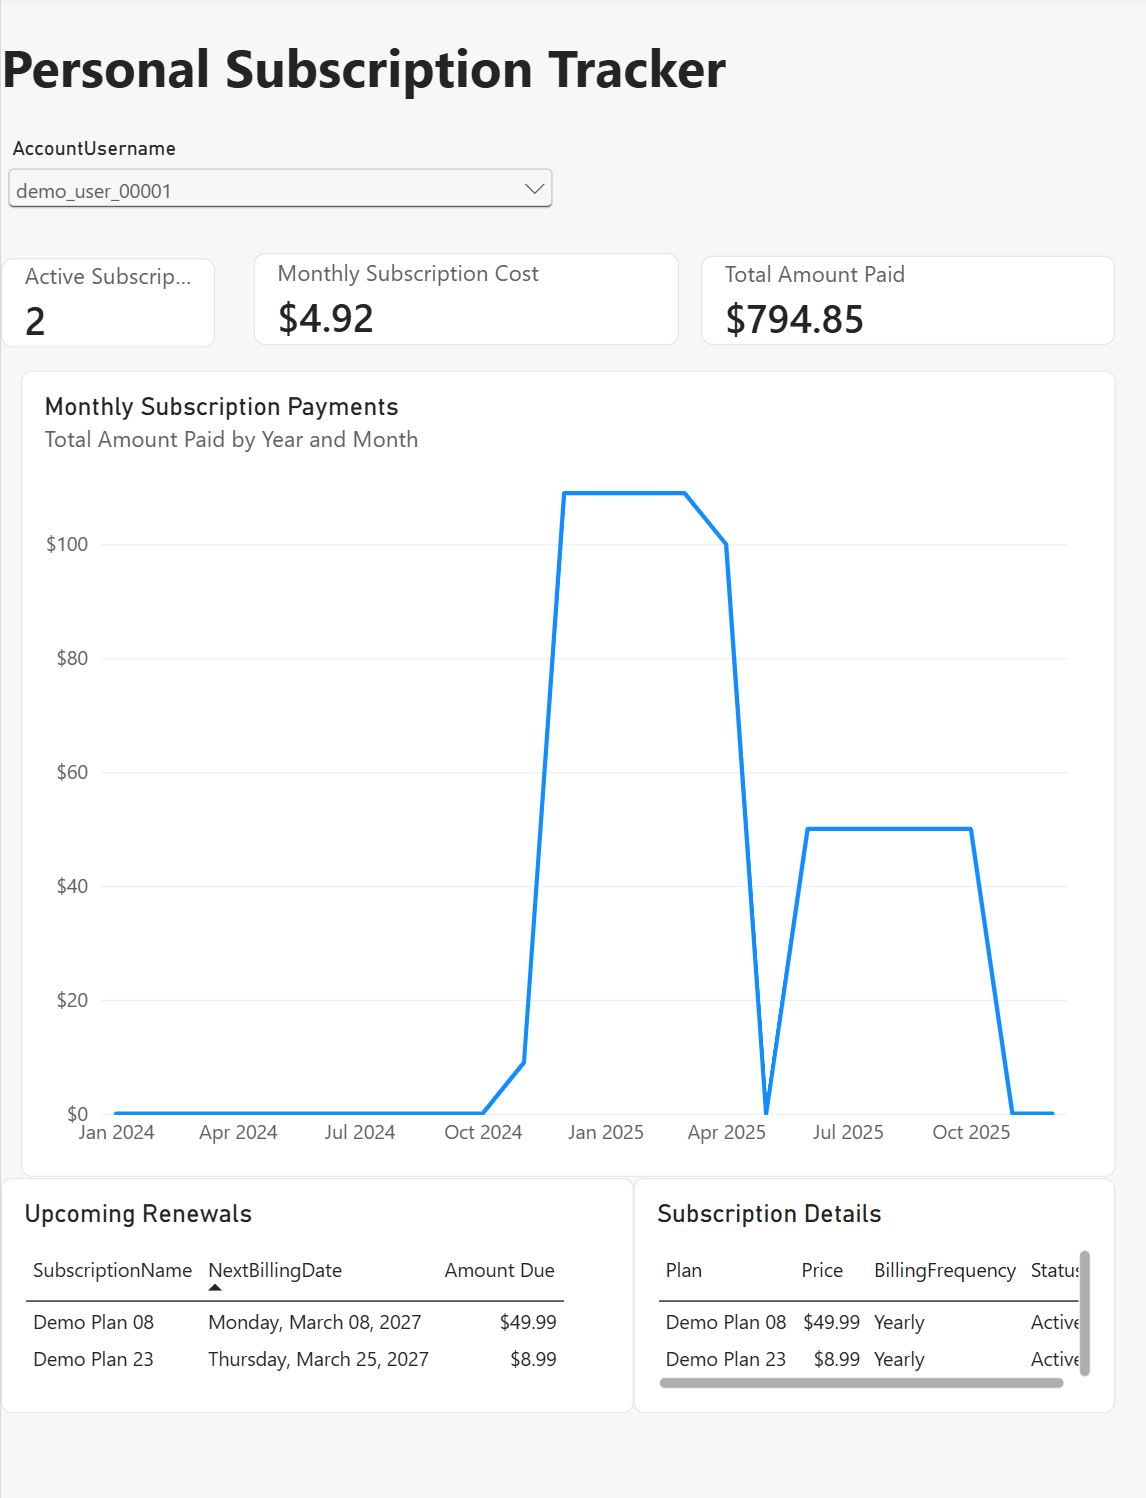

Layout of this report page (visuals, bound fields, positions):
{"tool":"powerbi","page":{"name":"Page 1","canvas":[1920,1080],"ordinal":0},"visuals":[{"type":"slicer","fields":{"Values":["subscription_portfolio account.AccountUsername"]},"box":[0,101.1,398.9,66.7],"z":0},{"type":"cardVisual","fields":{"Data":["subscription_portfolio account.Active Subscriptions"]},"box":[0,188.9,153.3,64.4],"z":1000},{"type":"cardVisual","fields":{"Data":["subscription_portfolio account.Monthly Subscription Cost"]},"box":[180,186,304,66],"z":2000},{"type":"tableEx","title":"Subscription Details","fields":{"Values":["subscription_portfolio subscription.SubscriptionName","Sum(subscription_portfolio subscription.Cost)","subscription_portfolio subscription.BillingFrequency","subscription_portfolio status.StatusName"]},"box":[452,846,344,168],"z":3000},{"type":"cardVisual","fields":{"Data":["subscription_portfolio account.Total Amount Paid"]},"box":[500,188,296,64],"z":4000},{"type":"lineChart","title":"Monthly Subscription Payments","fields":{"Category":["subscription_portfolio payment.PaymentDate.Variation.Date Hierarchy.Year","subscription_portfolio payment.PaymentDate.Variation.Date Hierarchy.Month"],"Y":["subscription_portfolio account.Total Amount Paid"]},"box":[14,270,782,576],"z":5000},{"type":"tableEx","title":"Upcoming Renewals","fields":{"Values":["subscription_portfolio subscription.SubscriptionName","subscription_portfolio subscription.NextBillingDate","Sum(subscription_portfolio subscription.Cost)"]},"box":[0,846,452,168],"z":6000},{"type":"textbox","box":[0,26,558,56],"z":6001}]}

Visuals, with their boxes on the page's 1920x1080 design canvas (x1, y1, x2, y2). These are canvas units, not pixel positions in the 1146x1498 screenshot, which may show the page scaled, cropped or inside an application window:
slicer - subscription_portfolio account.AccountUsername: detection(0, 101, 399, 168)
cardVisual - subscription_portfolio account.Active Subscriptions: detection(0, 189, 153, 253)
cardVisual - subscription_portfolio account.Monthly Subscription Cost: detection(180, 186, 484, 252)
"Subscription Details" tableEx: detection(452, 846, 796, 1014)
cardVisual - subscription_portfolio account.Total Amount Paid: detection(500, 188, 796, 252)
"Monthly Subscription Payments" lineChart: detection(14, 270, 796, 846)
"Upcoming Renewals" tableEx: detection(0, 846, 452, 1014)
textbox: detection(0, 26, 558, 82)
